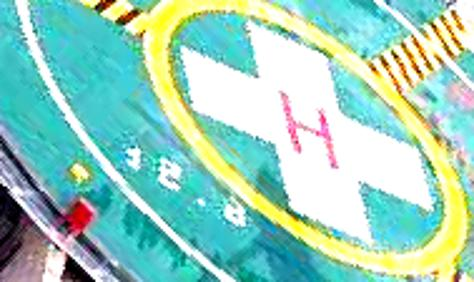Apron: (136, 1, 471, 278)
